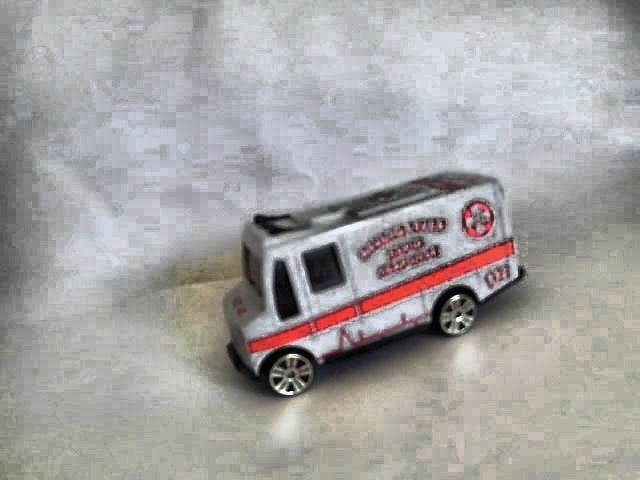ambulance: (222, 169, 524, 397)
